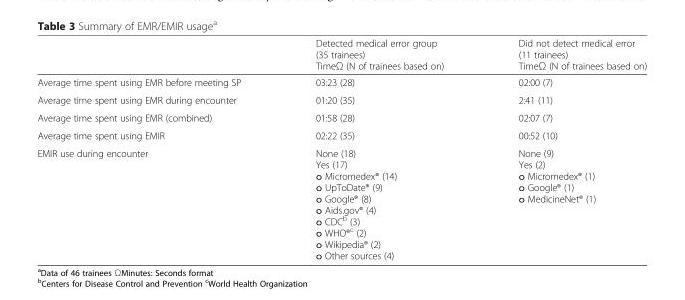table: (36, 36, 646, 260)
table column: (36, 36, 277, 260), (277, 36, 480, 260), (480, 36, 646, 260)
table column header: (36, 36, 646, 73)
table row: (36, 143, 646, 260), (36, 36, 646, 73), (36, 90, 646, 108), (36, 108, 646, 126), (36, 73, 646, 90), (36, 126, 646, 143)
